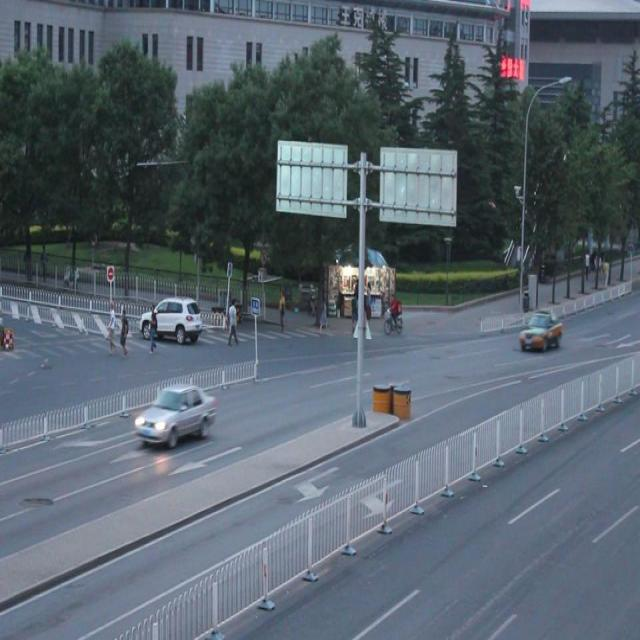car: (134, 381, 217, 446), (140, 298, 201, 342), (516, 306, 562, 351)
